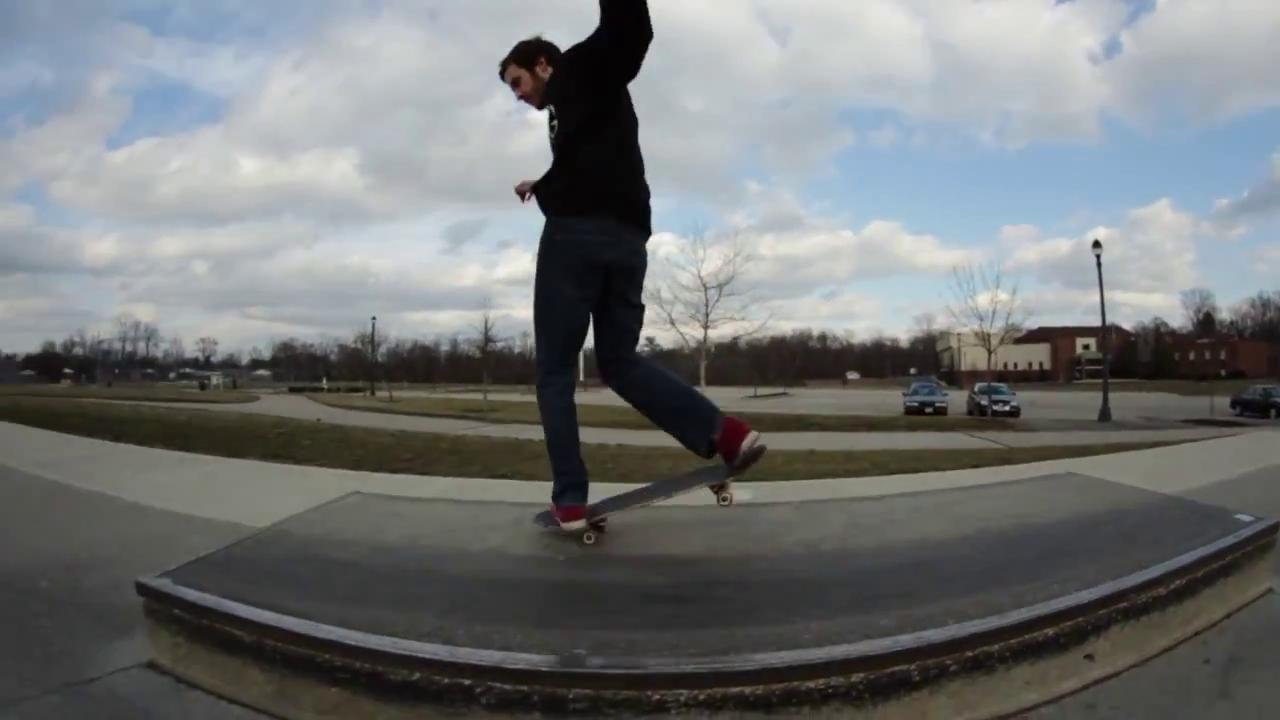victim: (493, 1, 782, 547)
